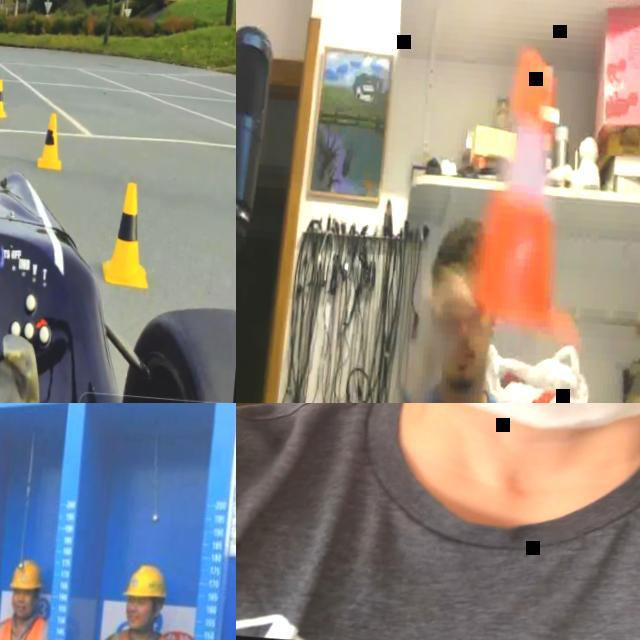helmet: (124, 564, 168, 600), (10, 560, 44, 592)
